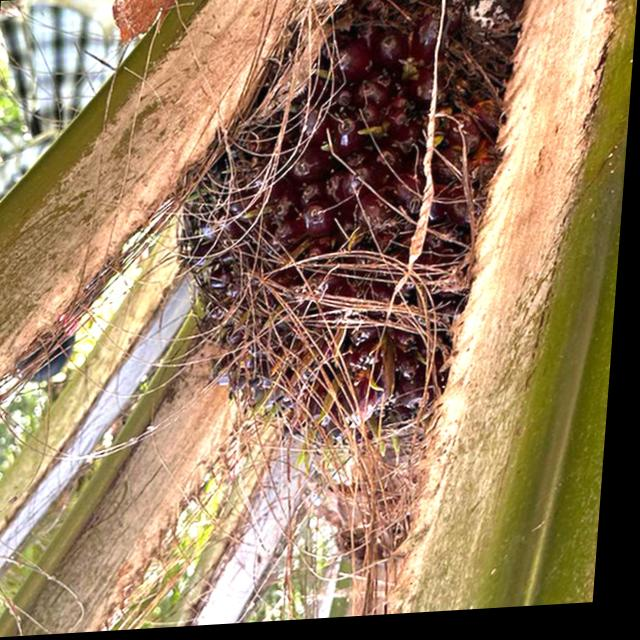almost: (157, 0, 517, 493)
